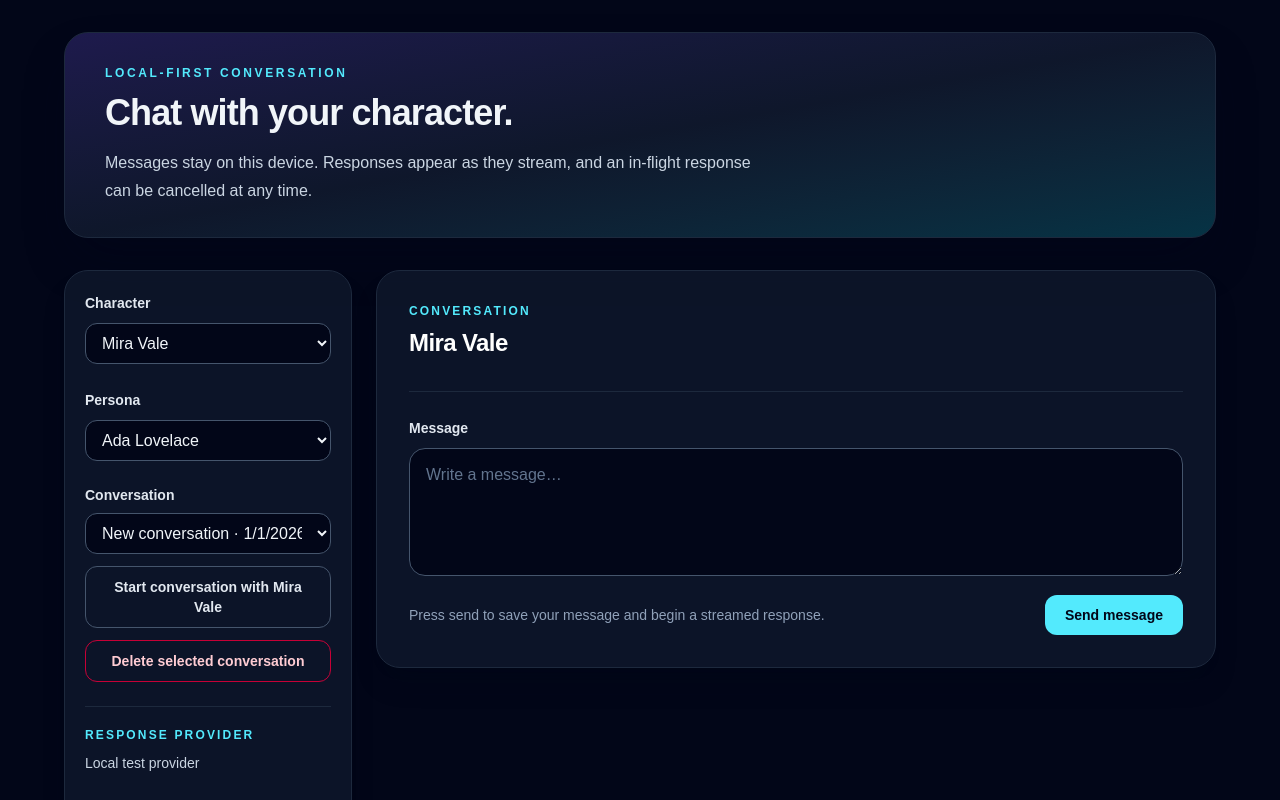
Test: ChatScreen › passes the selected persona when creating a conversation
Expected: the heading "Chat with your character." is shown, [105,92,513,133]
Select "Grace Hopper" in the dropdown labelled "Persona": x=208, y=440 [85,420,331,461]
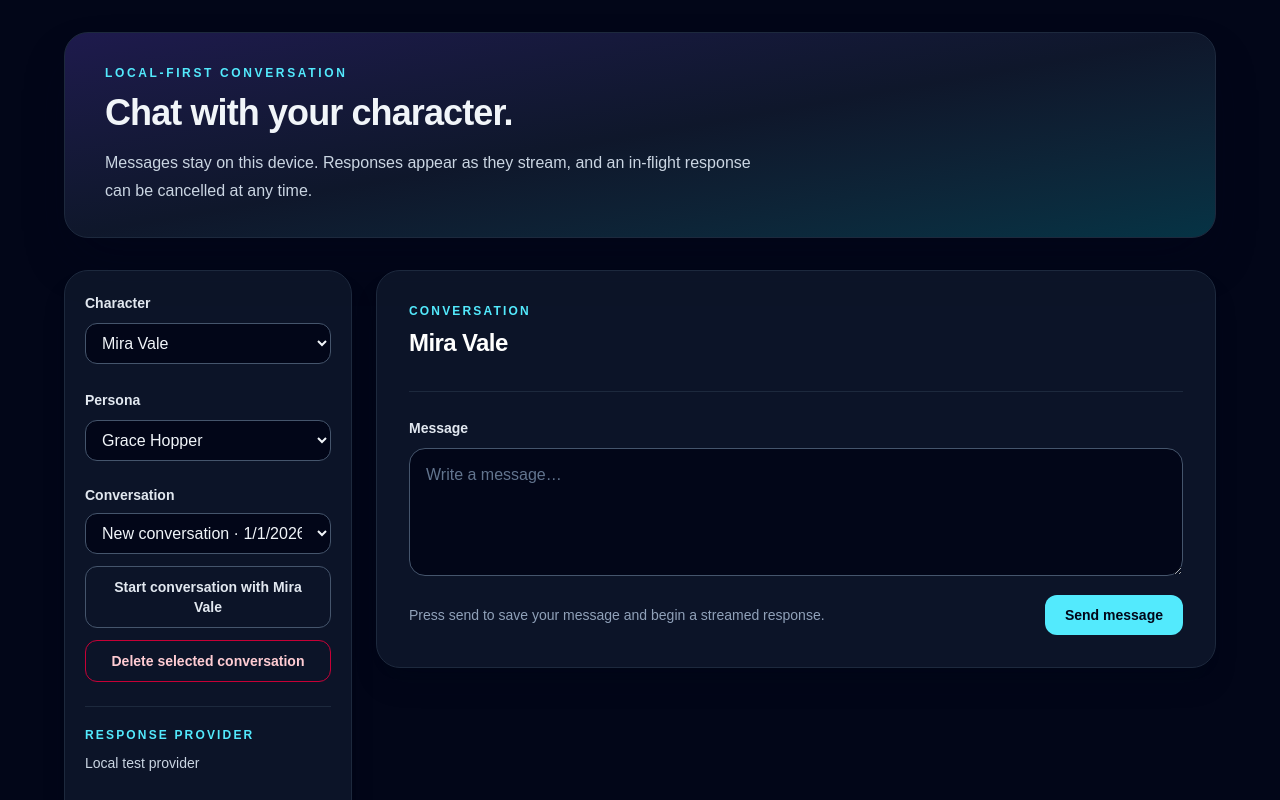
Click the button "Start conversation with Mira Vale": x=208, y=597 [85,566,331,628]
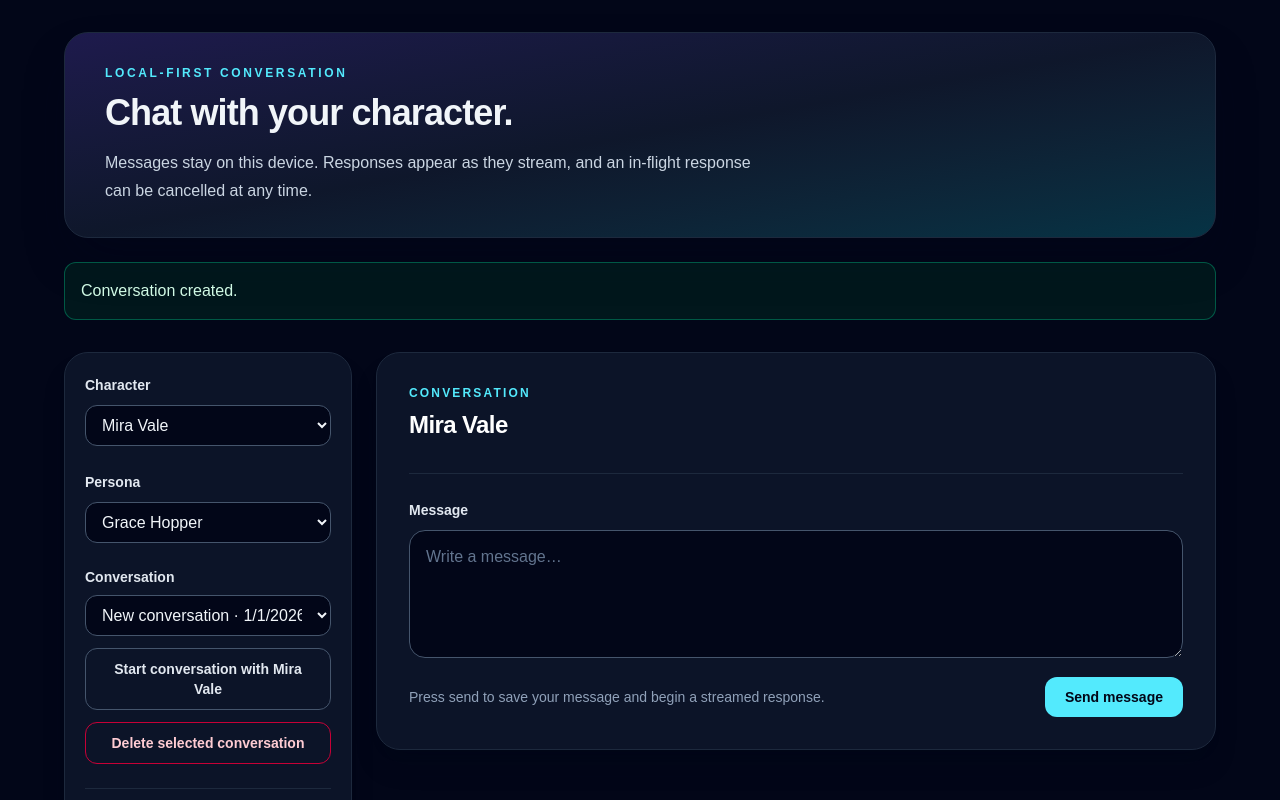
Result: the message reads "Conversation created." at [81,282,238,299]
